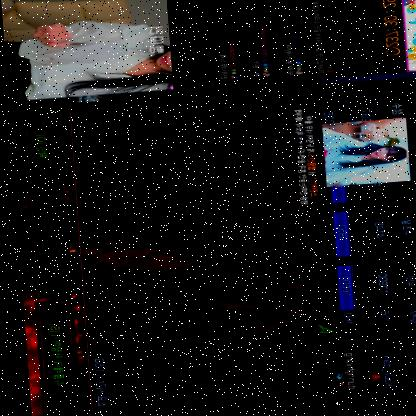donation: (287, 105, 412, 211)
streamer: (2, 17, 172, 101)
